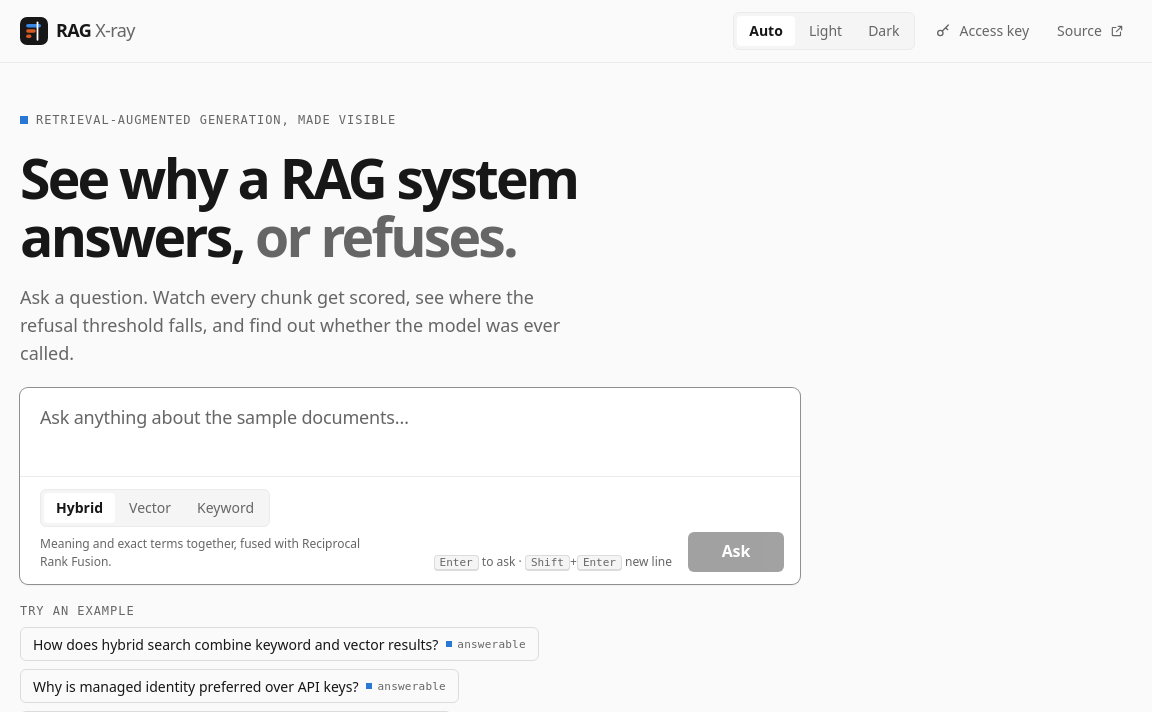
it: App › asks a question with Enter and shows the answer and the trace
Type "How does hybrid search work?" into the text box named "Ask a question" at (410, 432), box top-left (20, 388), bottom-right (800, 476)
Then press Enter
(page scrolled)
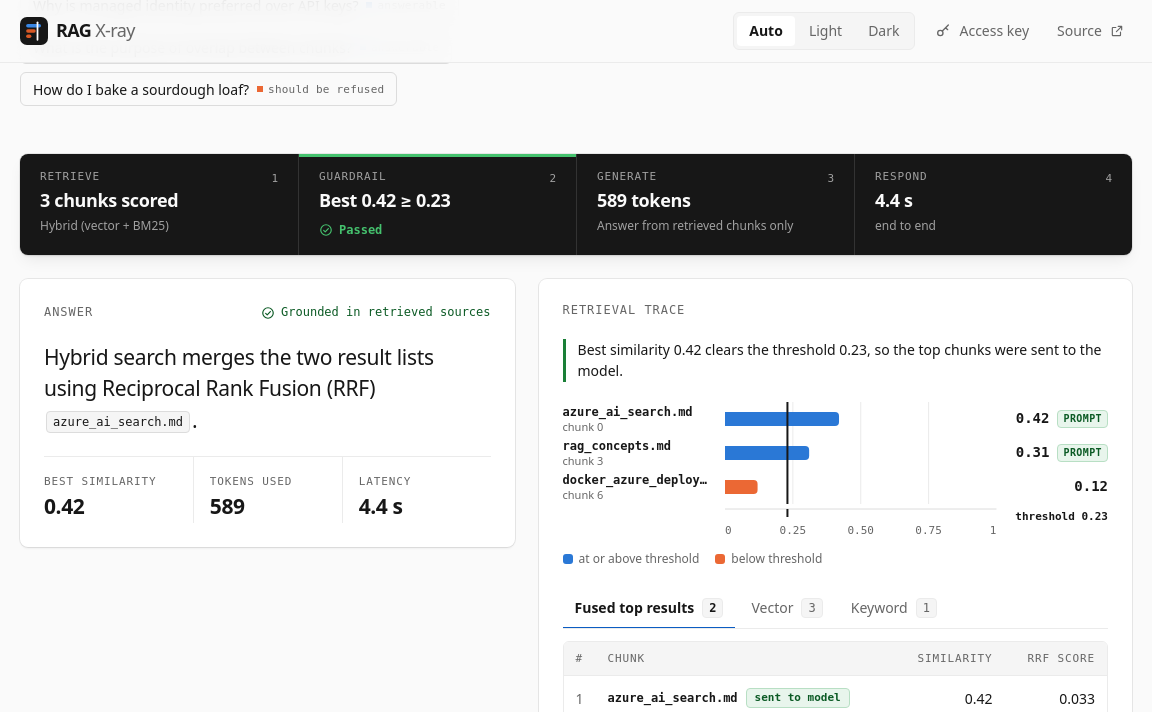
Check: the heading "Answer" is shown, box top-left (44, 305), bottom-right (93, 320)
Check: the text "clears the threshold" is shown, box top-left (578, 340), bottom-right (1101, 380)
